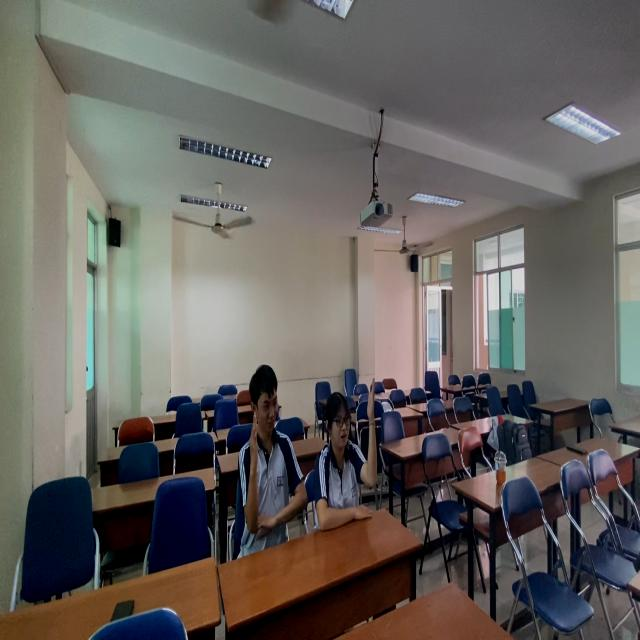raise_hand: (311, 373, 386, 541)
